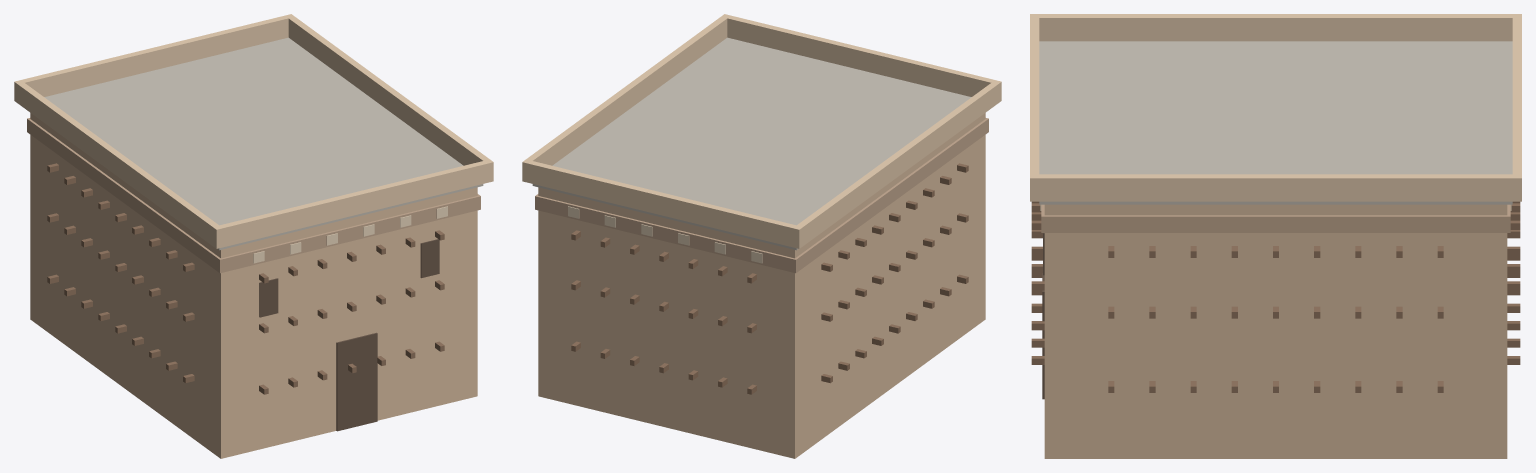
Rendered from birni_ocre.glb.
3 views of the same model, side by side, from view 1: azimuth 30°, elevation 25°; view 2: azimuth 150°, elevation 25°; view 3: azimuth 270°, elevation 25° (orthographic). The views are drawn at different scales.
Visible parts, largest first — view 1: birniA_mur, birniA_dalle, birniA_p1, birniA_bande, birniA_p2, birniA_p4, birniA_p3, birniA_porte, birniA_f2, birniA_f1; view 2: birniA_mur, birniA_dalle, birniA_p2, birniA_bande, birniA_p1, birniA_p4, birniA_p3; view 3: birniA_mur, birniA_dalle, birniA_p3, birniA_p4, birniA_bande, birniA_p1, birniA_p2.
Boxes of the visible parts, bbox=[...] form: birniA_mur: bbox=[30, 113, 477, 458]; birniA_dalle: bbox=[44, 37, 483, 250]; birniA_p1: bbox=[212, 159, 493, 248]; birniA_bande: bbox=[27, 118, 480, 273]; birniA_p2: bbox=[14, 14, 294, 103]; birniA_p4: bbox=[18, 83, 218, 245]; birniA_p3: bbox=[288, 17, 489, 165]; birniA_porte: bbox=[336, 332, 377, 431]; birniA_f2: bbox=[420, 239, 439, 278]; birniA_f1: bbox=[259, 278, 278, 317]; birniA_mur: bbox=[538, 113, 985, 458]; birniA_dalle: bbox=[532, 37, 971, 250]; birniA_p2: bbox=[522, 159, 803, 248]; birniA_bande: bbox=[535, 118, 988, 273]; birniA_p1: bbox=[721, 14, 1001, 103]; birniA_p4: bbox=[797, 83, 997, 245]; birniA_p3: bbox=[526, 17, 727, 165]; birniA_mur: bbox=[1044, 204, 1507, 458]; birniA_dalle: bbox=[1039, 41, 1512, 204]; birniA_p3: bbox=[1039, 174, 1512, 201]; birniA_p4: bbox=[1039, 14, 1512, 41]; birniA_bande: bbox=[1041, 204, 1510, 232]; birniA_p1: bbox=[1030, 14, 1039, 201]; birniA_p2: bbox=[1512, 14, 1521, 201].
Size of the model in its own units: 7.56 by 6.15 by 9.56.
